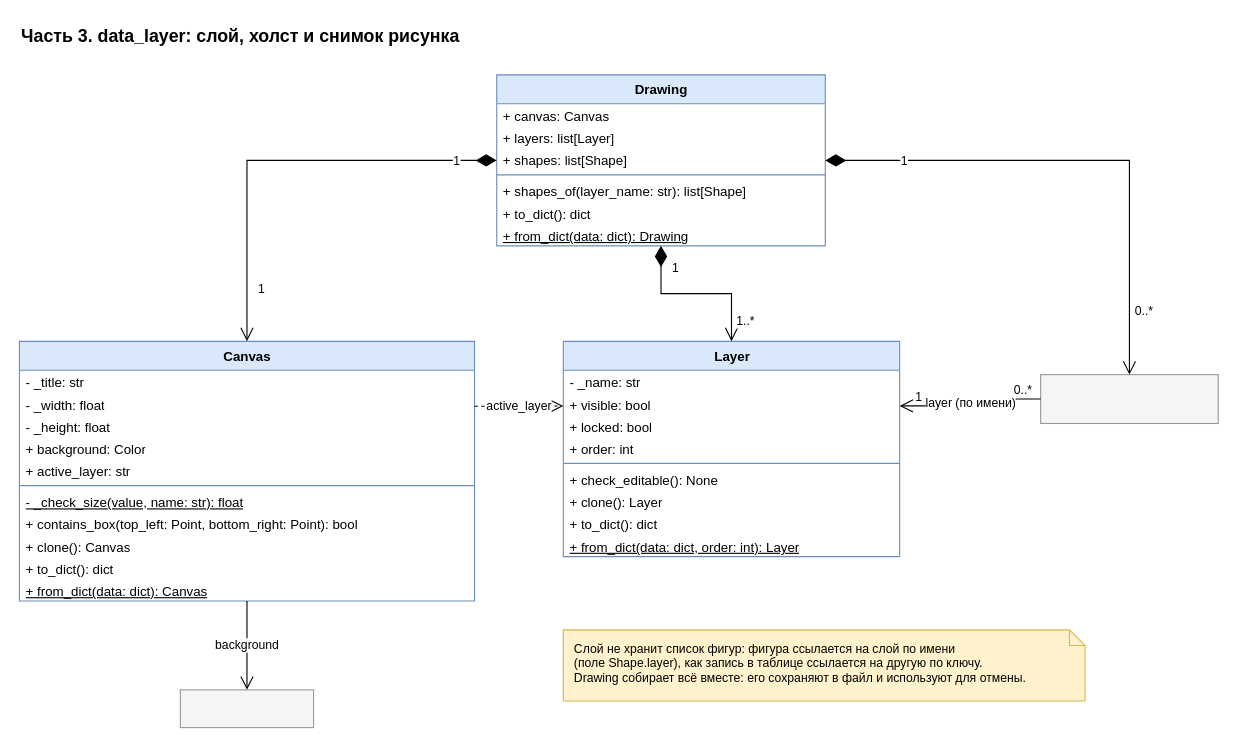
Some shapes in this 1238 by 747 pixel diagram are drawn without their labels. The centre of each missing label's shape, as x and y in pixels:
"Color" belongs at (x=246, y=708).
"«abstract» Shape" belongs at (x=1129, y=398).
